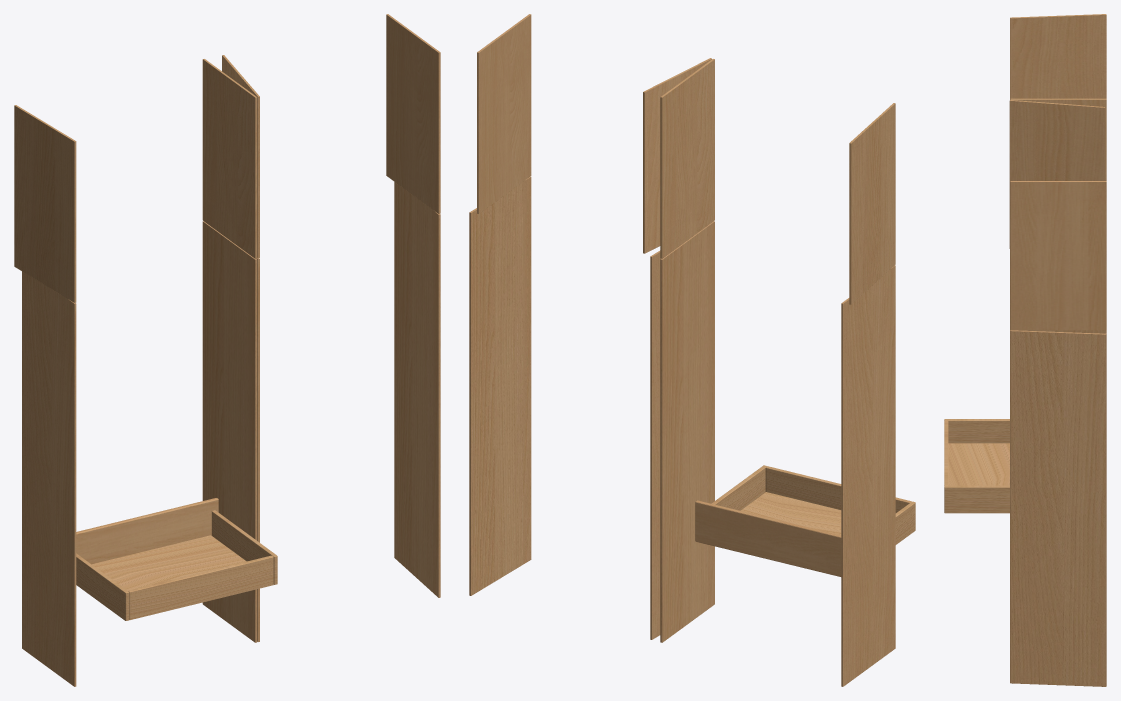
The model's file is lockerViewThree.gltf.
The picture shows the model from 3 angles, left to right: view 1: azimuth 30°, elevation 25°; view 2: azimuth 150°, elevation 25°; view 3: azimuth 270°, elevation 25°; orthographic projection. The views are drawn at different scales.
Visible parts, largest first — view 1: lockerViewThree; view 2: lockerViewThree; view 3: lockerViewThree.
Boxes of the visible parts, box(x1,y1,x2,y2) form: lockerViewThree: box(14, 14, 440, 686); lockerViewThree: box(469, 14, 915, 686); lockerViewThree: box(944, 14, 1106, 686).
Bounding box in the file's own units: 1.98 × 2.7 × 0.794.
Materials: 1 (1 with a texture image).
